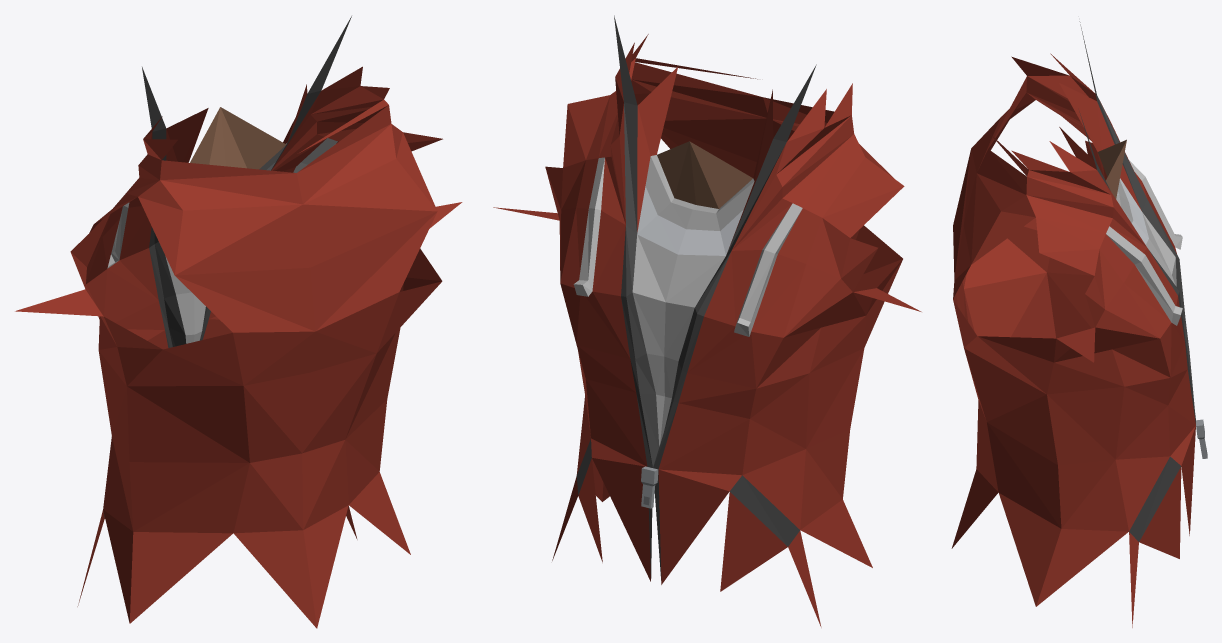
Rendered from Son_01_Torso_0_01_C.obj.
3 renders of one model, left to right at view 1: azimuth 30°, elevation 25°; view 2: azimuth 150°, elevation 25°; view 3: azimuth 270°, elevation 25°, orthographic. The views are drawn at different scales.
Visible parts, largest first — view 1: Son_01_Torso_0_01_C; view 2: Son_01_Torso_0_01_C; view 3: Son_01_Torso_0_01_C.
Boxes of the visible parts, x1=… form: Son_01_Torso_0_01_C: x1=15, y1=16, x2=462, y2=628; Son_01_Torso_0_01_C: x1=493, y1=15, x2=921, y2=627; Son_01_Torso_0_01_C: x1=951, y1=21, x2=1207, y2=627.
Size of the model in its own units: 0.5821 by 0.6905 by 0.3167.
Materials: 1 (1 with a texture image).
